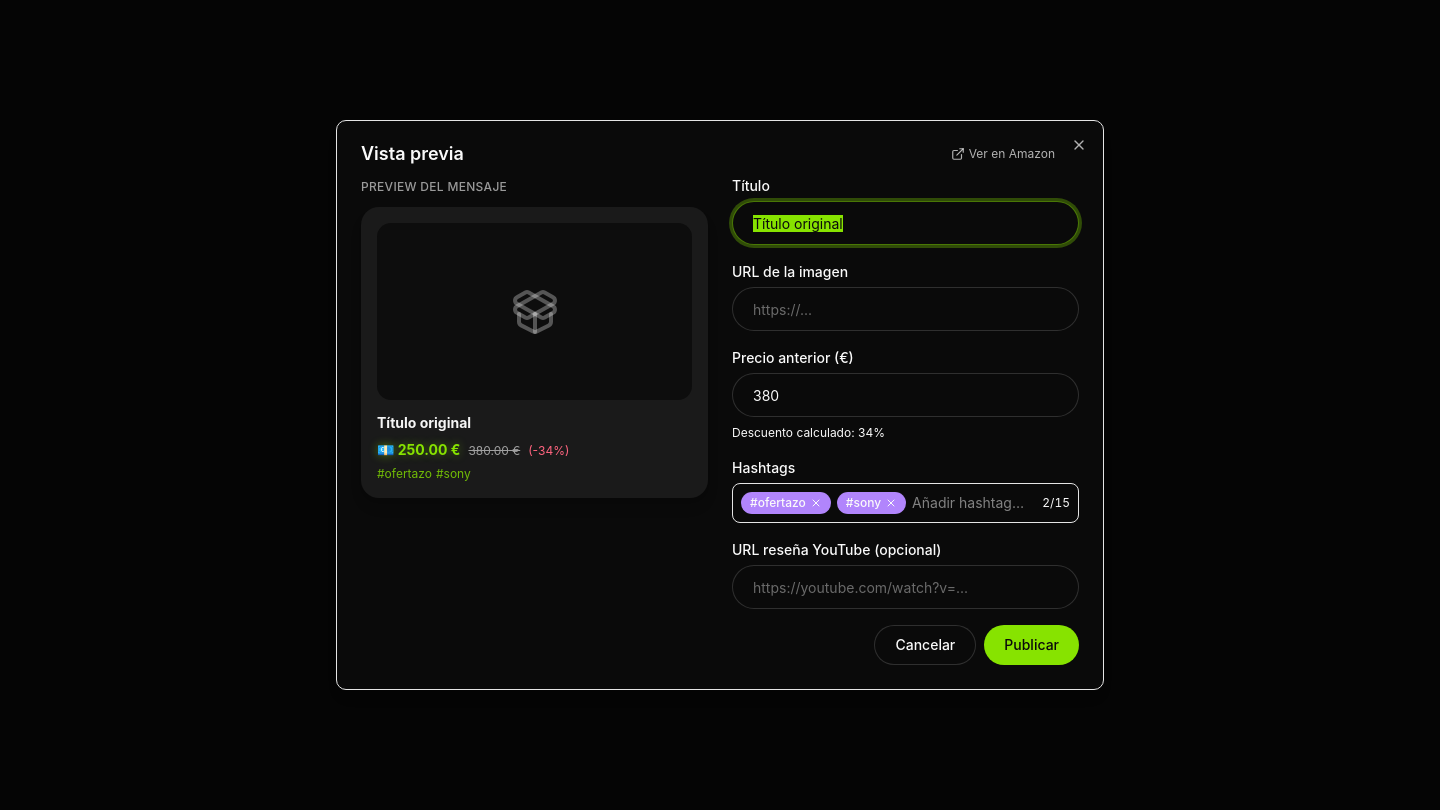
Test case: TelegramPreviewDialog — editable title (A1) › (r) editing title updates preview bubble title
This screenshot has width=1440, height=810.
Replace the text in the field labelled "Título" with "Nuevo título editado" at (906, 223), box [732,201,1079,245]
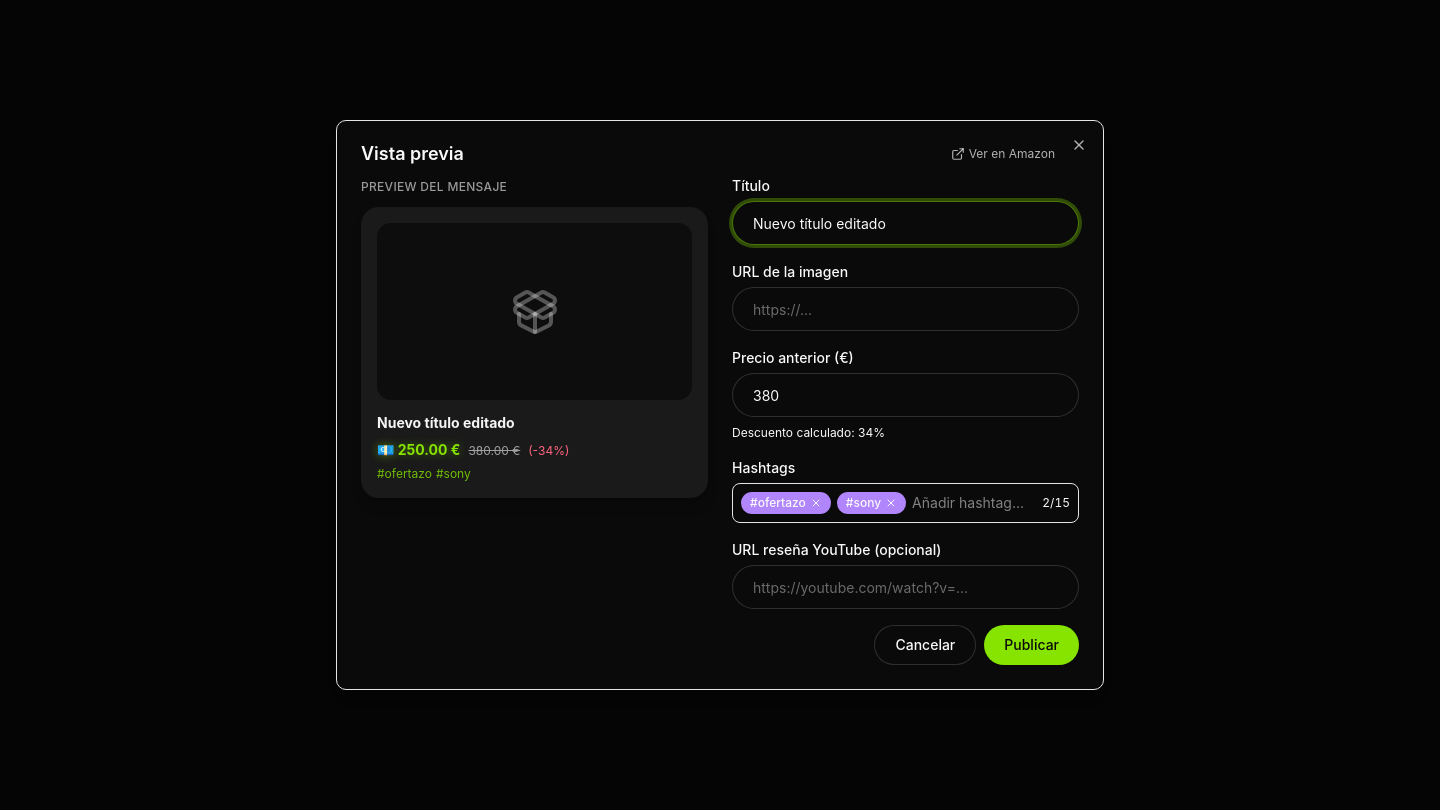
Result: the text with test id "telegram-preview-title" reads "Nuevo título editado" at [377,414,515,431]
